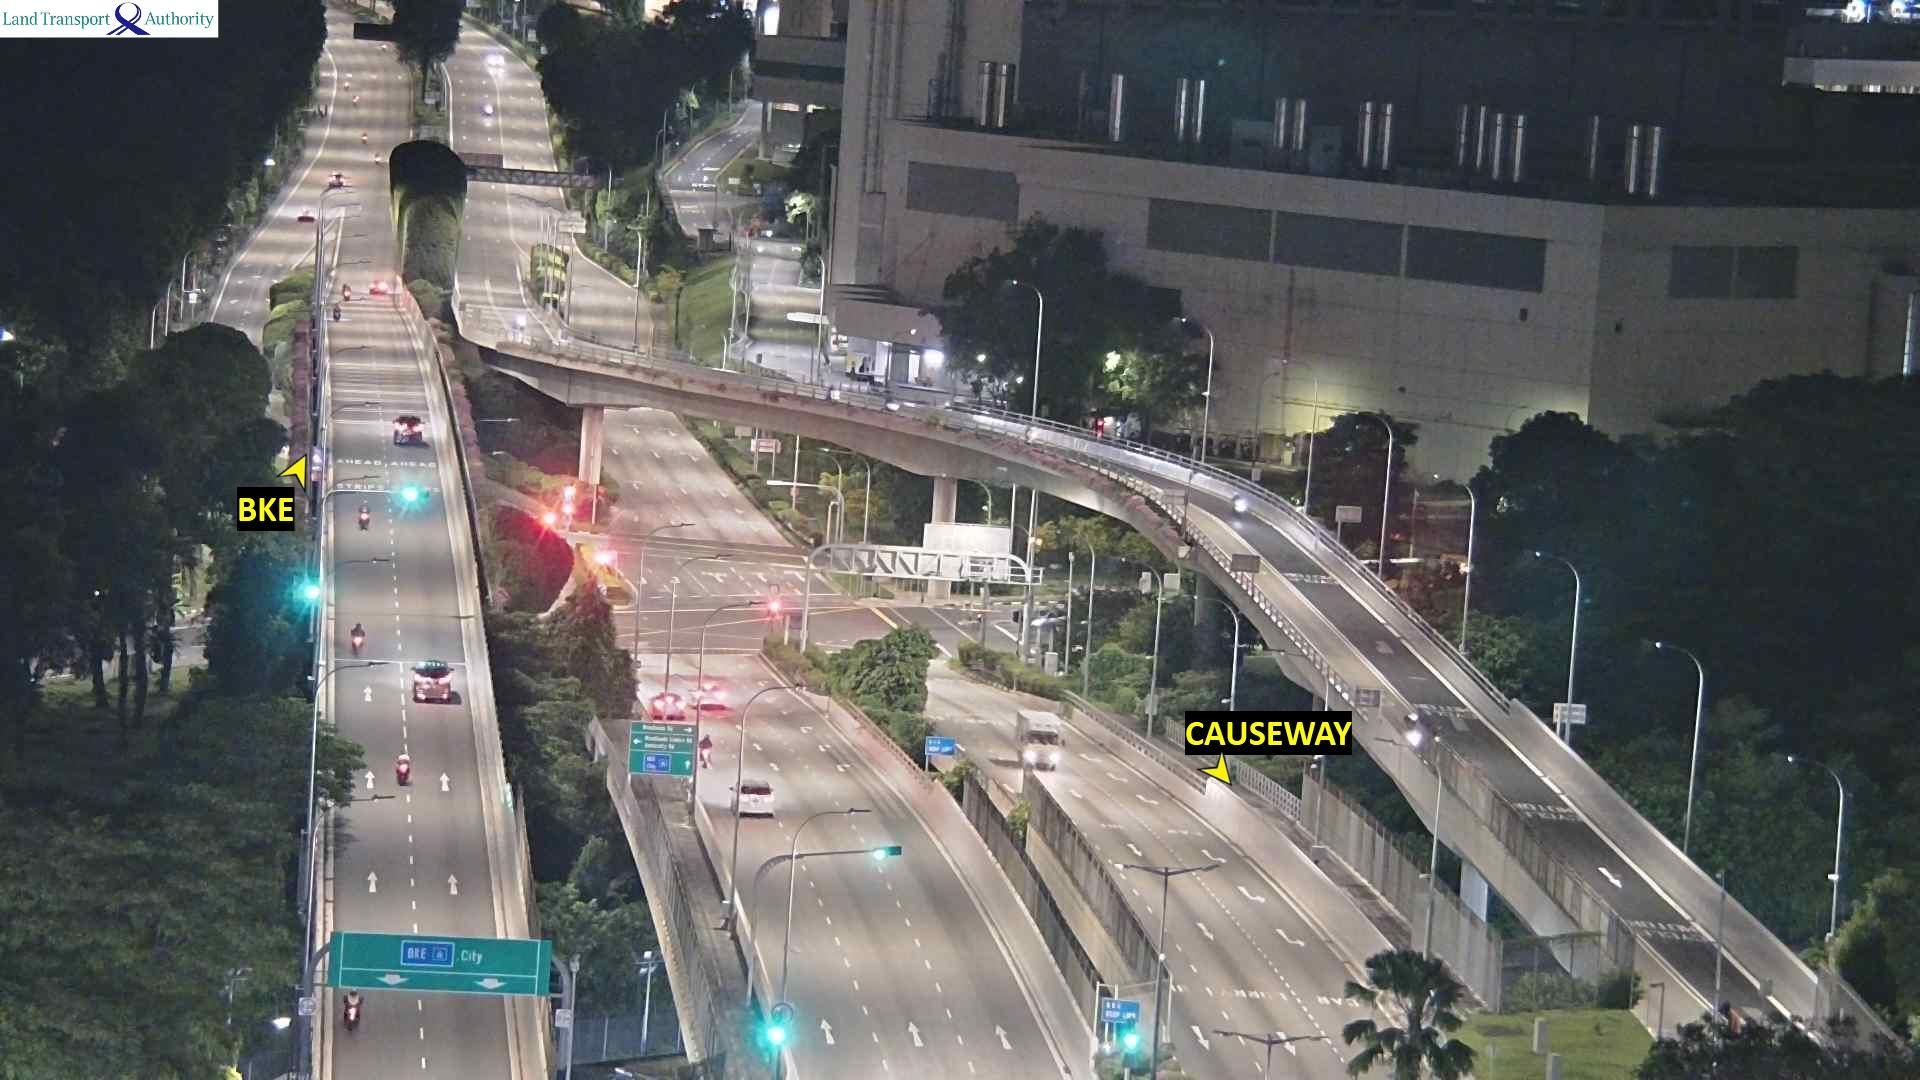vehicle-causeway-johor: (1019, 705, 1067, 764), (1236, 491, 1245, 513), (516, 315, 526, 331)
vehicle-causeway-singapore: (729, 782, 770, 816), (646, 695, 690, 721), (415, 683, 454, 707), (417, 663, 451, 688), (396, 418, 422, 448), (347, 990, 361, 1030), (694, 699, 729, 715), (400, 757, 415, 779), (702, 735, 712, 767), (357, 622, 372, 644), (364, 510, 380, 526), (368, 285, 380, 298), (344, 285, 352, 301), (334, 305, 340, 319)
